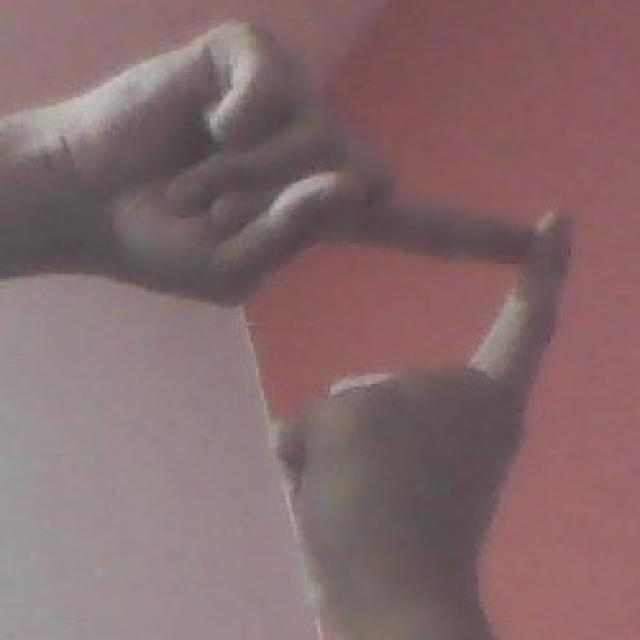Alphabet-E: (1, 23, 571, 640)
